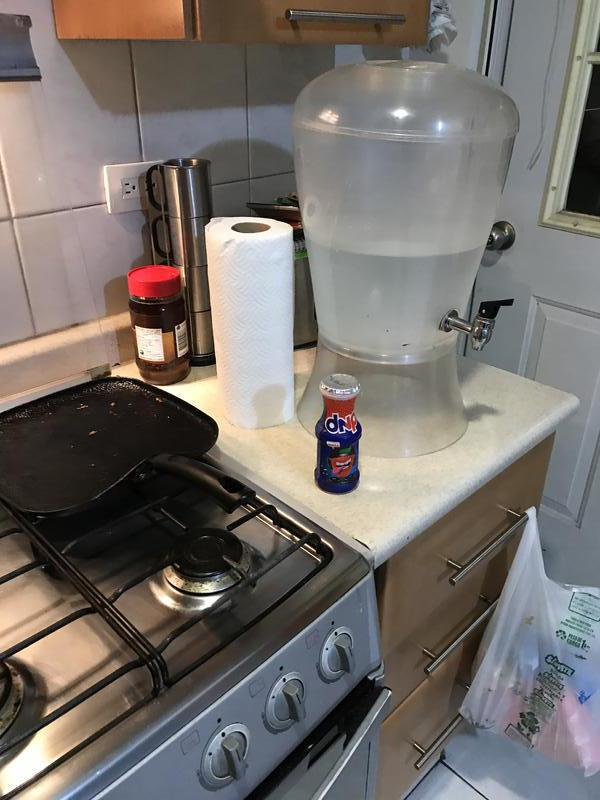danup: (315, 373, 364, 497)
